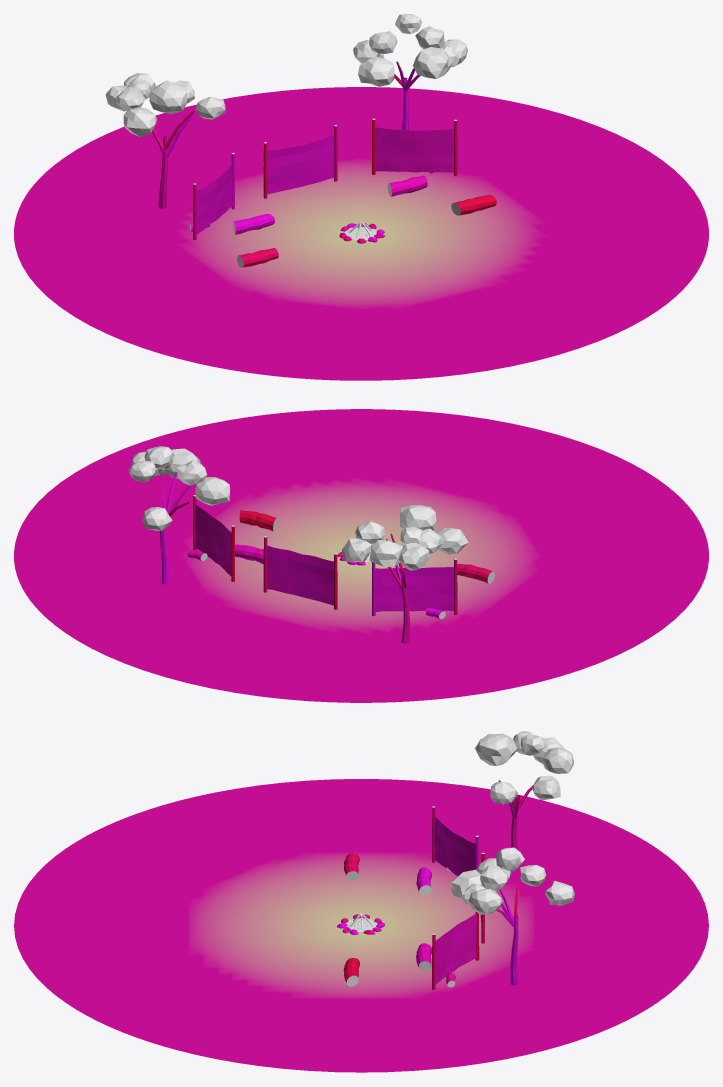
File: court_chapter_00.glb
3 views of the same model, one above another, from view 1: azimuth 30°, elevation 25°; view 2: azimuth 150°, elevation 25°; view 3: azimuth 270°, elevation 25° (orthographic).
Visible parts, largest first — view 1: Ground, Trees_1, Trees_0, Windbreak_2, Windbreak_1, Windbreak_0, Hearth, LogSeat_3; view 2: Ground, Trees_0, Trees_1, Windbreak_0, Windbreak_1, Windbreak_2, LogSeat_3, LogSeat_2; view 3: Ground, Trees_1, Trees_0, Windbreak_2, Windbreak_0, Hearth.
Boxes of the visible parts, x1=… form: Ground: x1=14, y1=87, x2=708, y2=380; Trees_1: x1=353, y1=14, x2=467, y2=130; Trees_0: x1=105, y1=73, x2=225, y2=208; Windbreak_2: x1=375, y1=127, x2=453, y2=172; Windbreak_1: x1=267, y1=134, x2=334, y2=194; Windbreak_0: x1=196, y1=162, x2=232, y2=234; Hearth: x1=339, y1=221, x2=385, y2=243; LogSeat_3: x1=451, y1=195, x2=496, y2=215; Ground: x1=14, y1=409, x2=708, y2=702; Trees_0: x1=342, y1=505, x2=468, y2=643; Trees_1: x1=128, y1=446, x2=229, y2=584; Windbreak_0: x1=375, y1=567, x2=453, y2=612; Windbreak_1: x1=266, y1=545, x2=333, y2=605; Windbreak_2: x1=195, y1=504, x2=231, y2=576; LogSeat_3: x1=239, y1=510, x2=277, y2=531; LogSeat_2: x1=457, y1=564, x2=494, y2=583; Ground: x1=14, y1=779, x2=708, y2=1072; Trees_1: x1=450, y1=847, x2=574, y2=985; Trees_0: x1=474, y1=731, x2=573, y2=867; Windbreak_2: x1=435, y1=913, x2=476, y2=984; Windbreak_0: x1=434, y1=816, x2=475, y2=875; Hearth: x1=337, y1=913, x2=384, y2=934.
Bounding box in the file's own units: 24 × 5.02 × 24.
